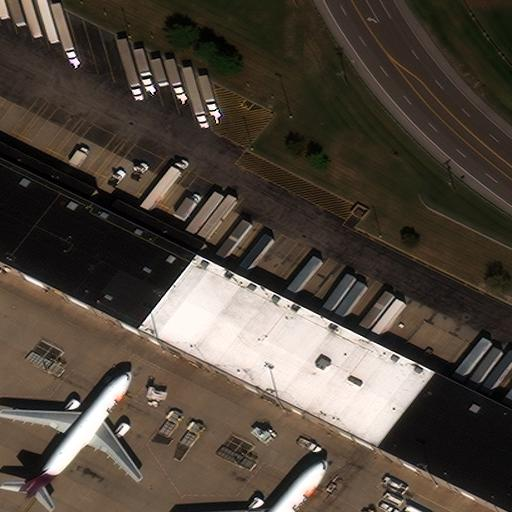Large Civil Transport: (0, 373, 143, 496), (182, 461, 325, 512)
